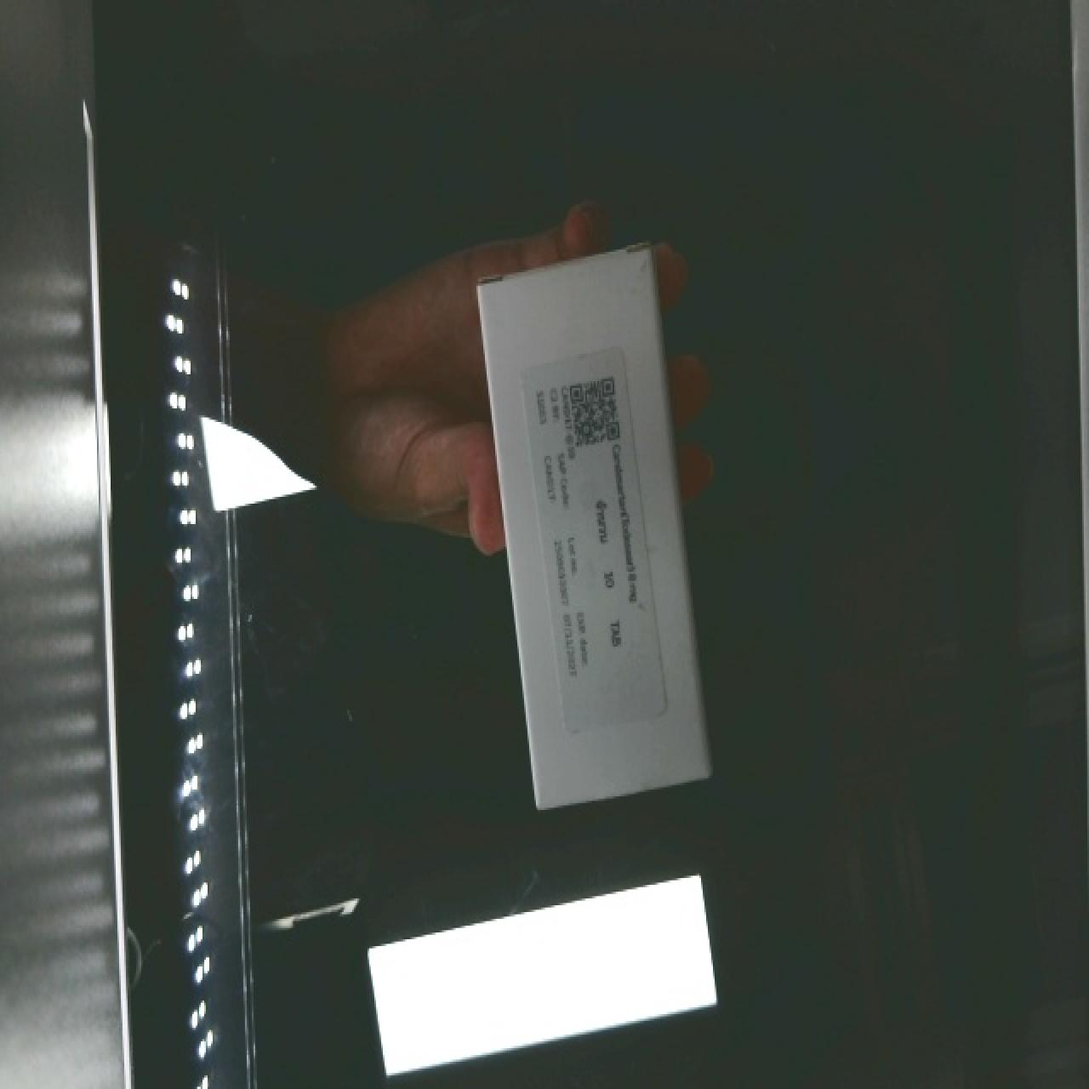qr_code: (550, 347, 636, 469)
